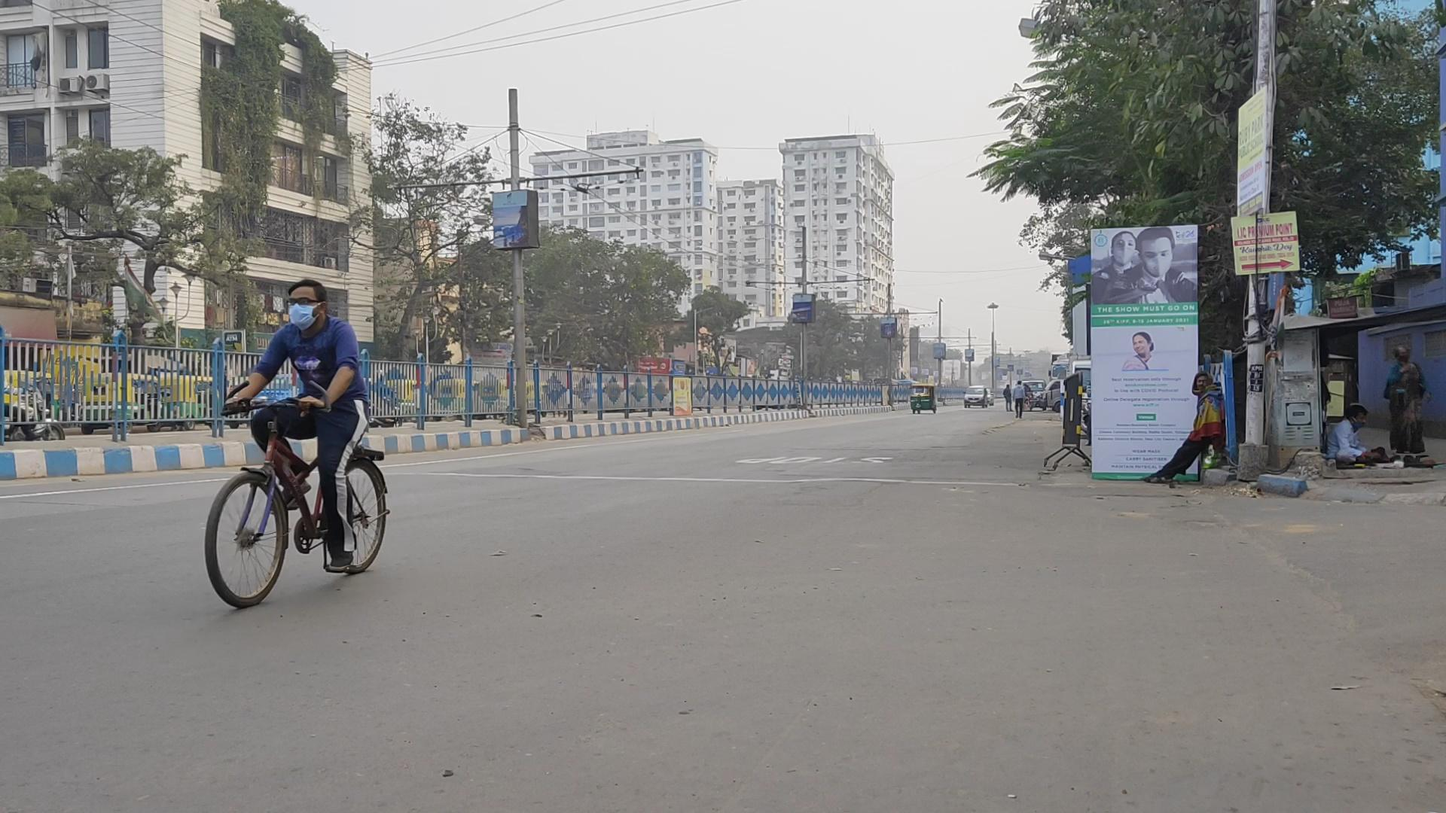Auto: (910, 383, 937, 414)
bike: (204, 279, 390, 608)
car: (1022, 378, 1048, 412), (962, 385, 988, 409)
